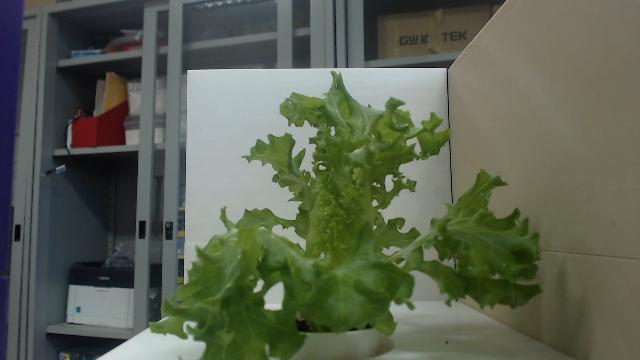Harvest Stage: (149, 70, 545, 360)
